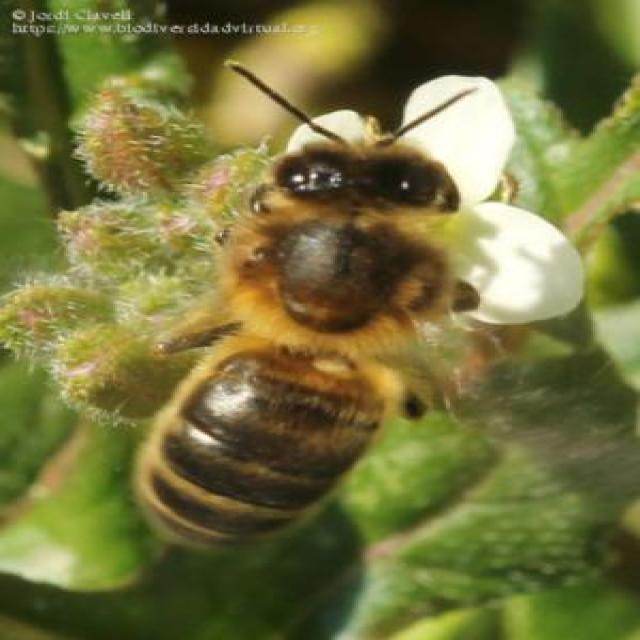antennae: (222, 59, 350, 151), (372, 82, 482, 150)
body: (133, 144, 464, 554)
insect: (132, 56, 489, 557)
legs: (155, 317, 242, 353), (234, 184, 304, 222), (398, 380, 428, 438), (447, 276, 484, 317)
